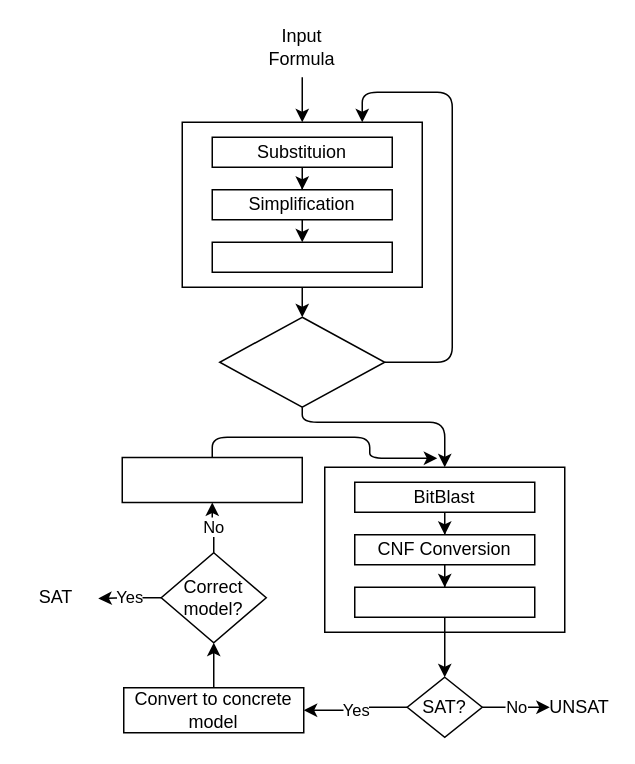
The diagram is 635 pixels wide and 764 high, and some of its shapes have lost their labels. The centre of each missing label's shape, as x and y in pixels:
Further simplification possible: point 301,361
Linear Solving: point 301,256
Refinement Array Axioms: point 211,479
SAT Solver: point 444,601
